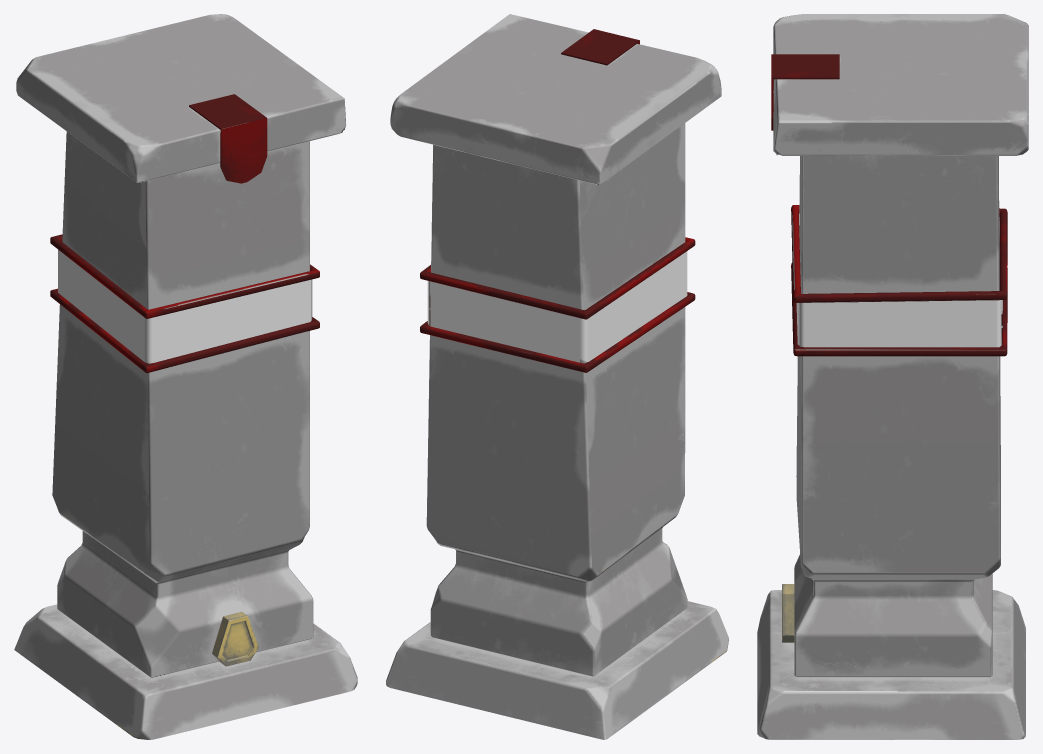
The model's file is Column.fbx.
3 renders of one model, left to right at view 1: azimuth 30°, elevation 25°; view 2: azimuth 150°, elevation 25°; view 3: azimuth 270°, elevation 25°, orthographic. The views are drawn at different scales.
Parts seen in each view (by area): view 1: Column.001, Column Middle.001, Column Middle, Column Top, Column down; view 2: Column.001, Column Middle.001, Column Middle, Column Top; view 3: Column.001, Column Middle.001, Column Middle, Column Top, Column down.
Boxes of the visible parts, <box> form: Column.001: <box>14,14,357,739</box>; Column Middle.001: <box>58,249,312,363</box>; Column Middle: <box>50,234,319,372</box>; Column Top: <box>189,94,267,183</box>; Column down: <box>212,612,258,666</box>; Column.001: <box>386,14,728,739</box>; Column Middle.001: <box>427,251,687,363</box>; Column Middle: <box>420,237,695,372</box>; Column Top: <box>561,29,639,65</box>; Column.001: <box>757,14,1028,739</box>; Column Middle.001: <box>796,213,1002,347</box>; Column Middle: <box>791,205,1007,356</box>; Column Top: <box>771,54,839,130</box>; Column down: <box>782,584,794,642</box>.
Size of the model in its own units: 106 by 269 by 107.
